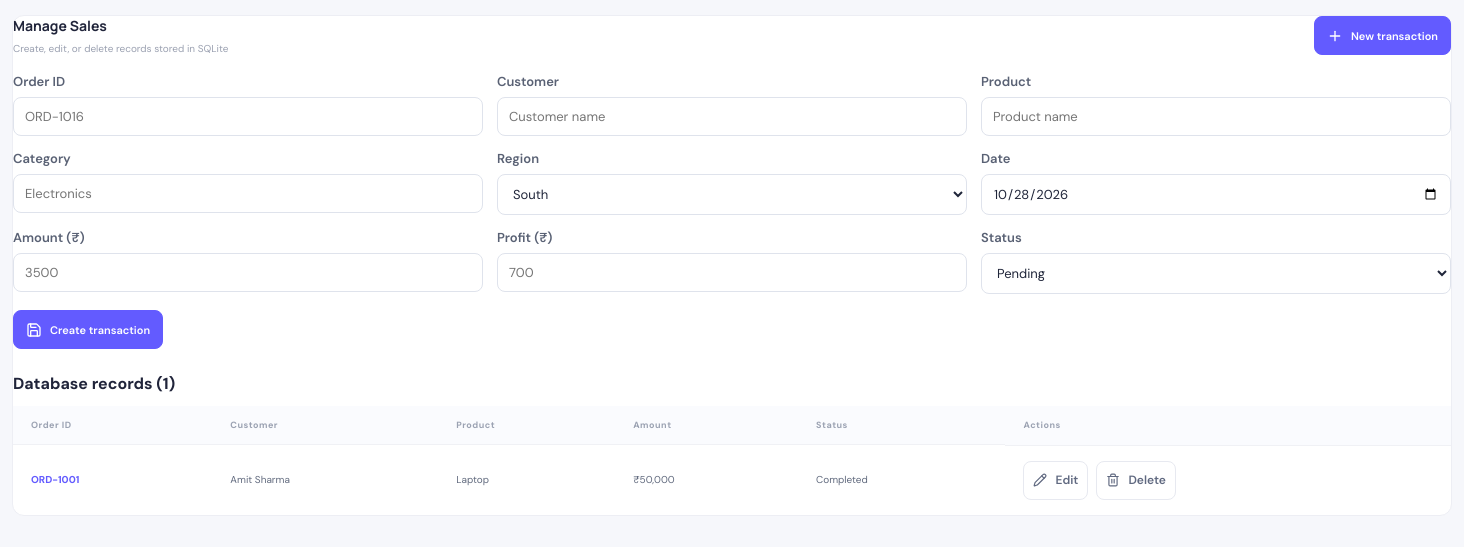
SalesManager › updates a transaction and refreshes the data
This screenshot has width=1464, height=547.
Click the button with aria-label "Edit ORD-1001" at (1056, 480), box [1024,460,1088,500]
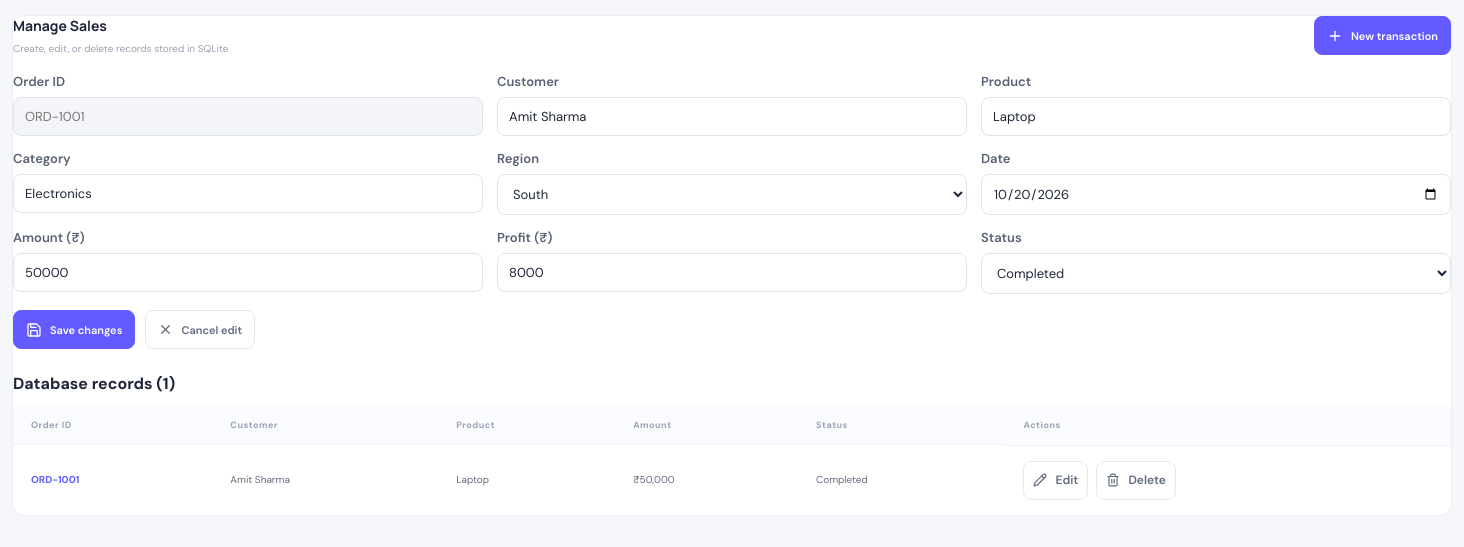
Replace the text in the field labelled "Customer" with "Amit Updated" at (732, 116), box [497,97,967,136]
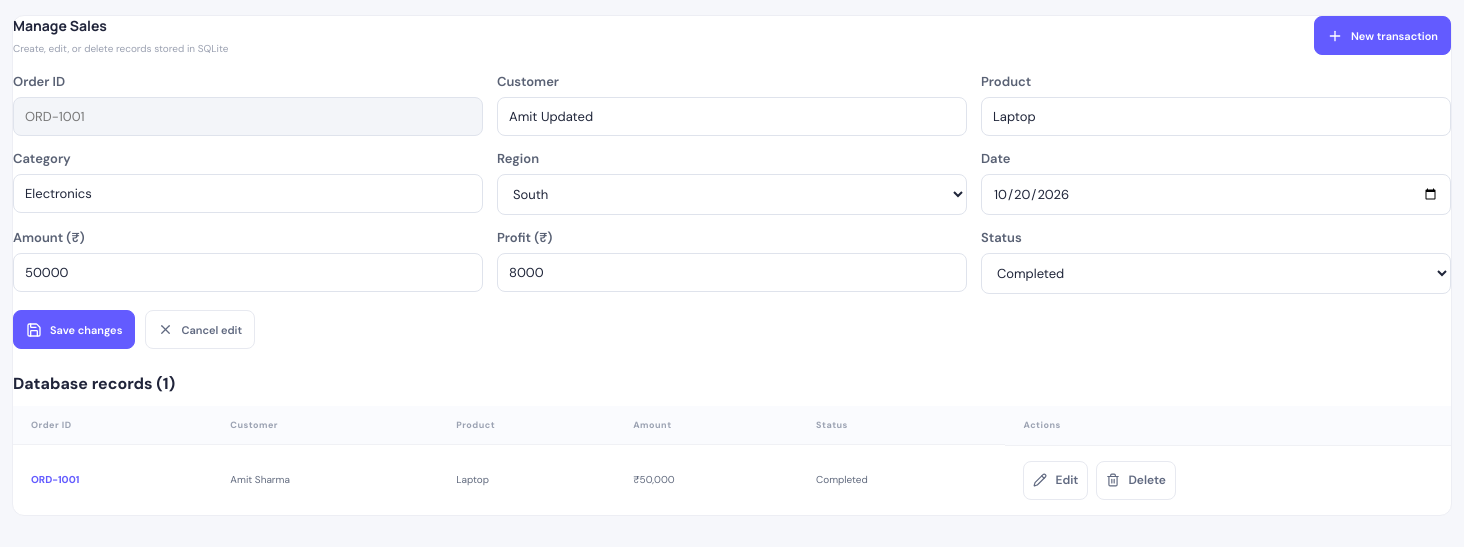
Click the button "Save changes" at (74, 330), box [13,310,135,349]
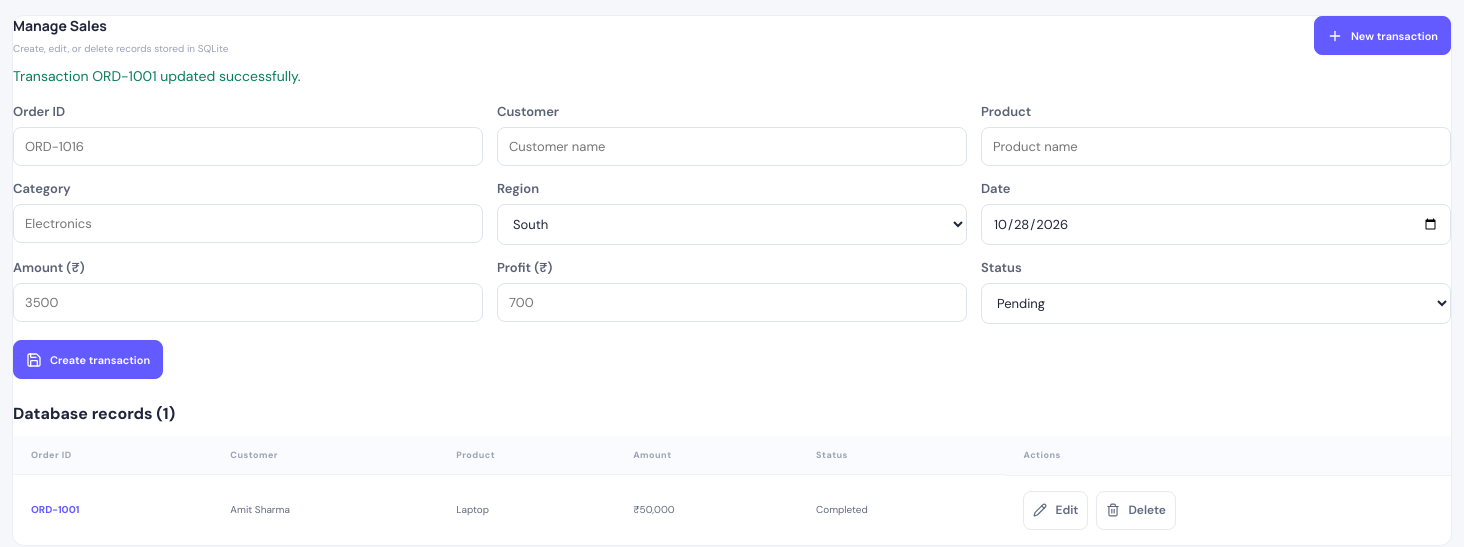
Check: the message reads "Transaction ORD-1001 updated successfully.", box [13,67,301,85]
